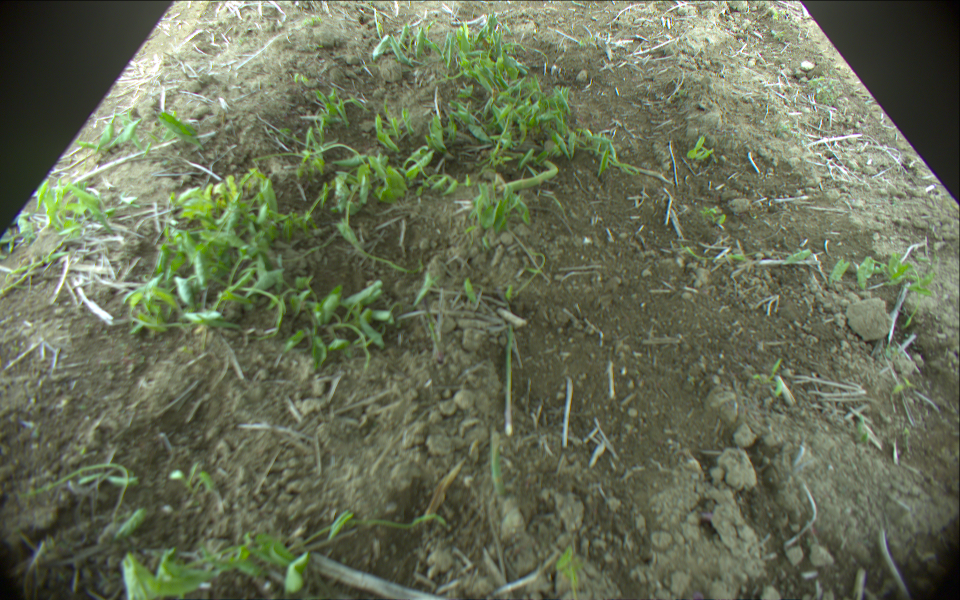aspa: (494, 146, 558, 195)
